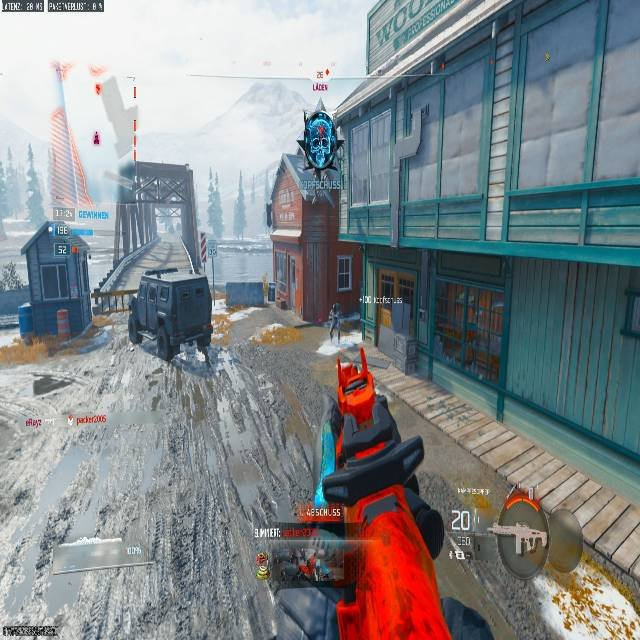player: (328, 305, 342, 340)
